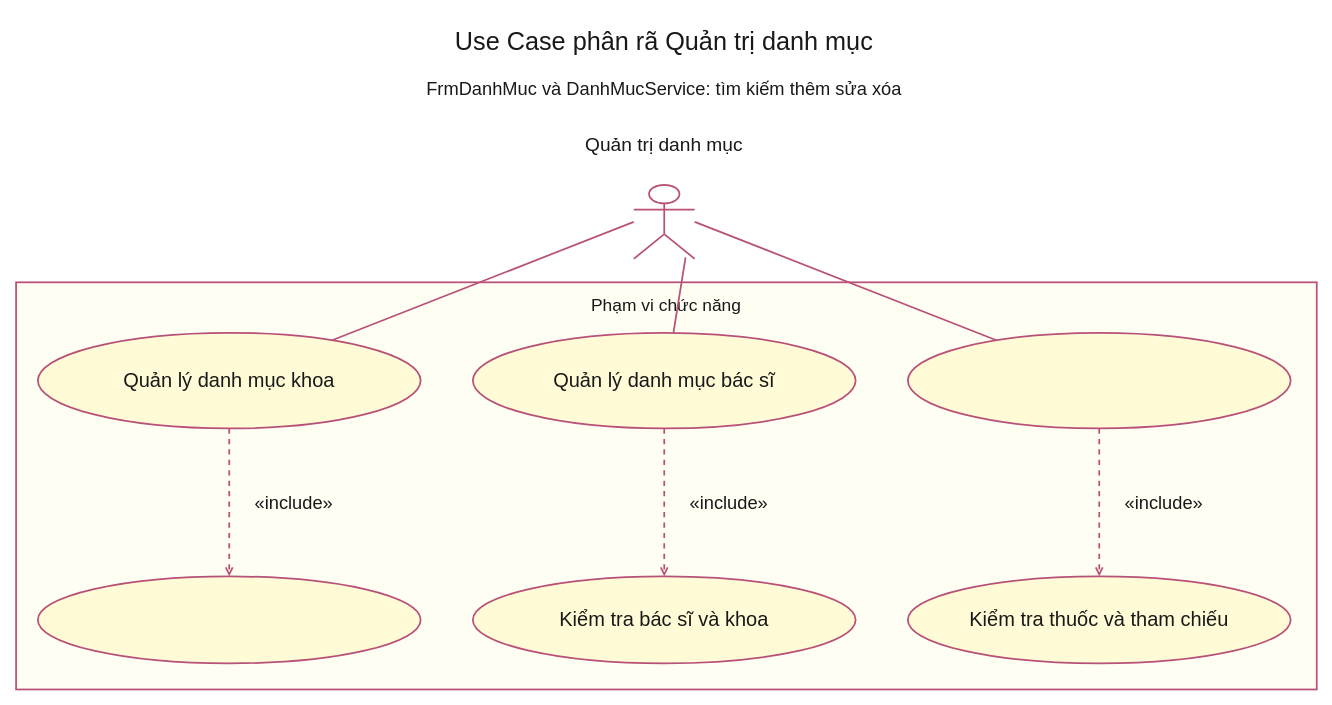
This 1332x705 diagram has some shape labels left out. The box of each missing label's shape, as (x1, y1, x2, y2) in pixels:
Kiểm tra tên và tham chiếu: (37, 575, 421, 664)
Quản lý danh mục thuốc: (907, 331, 1291, 429)
